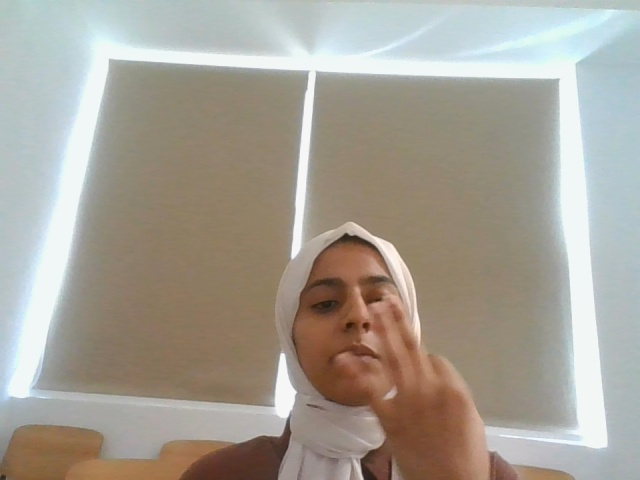okay: (322, 303, 502, 480)
